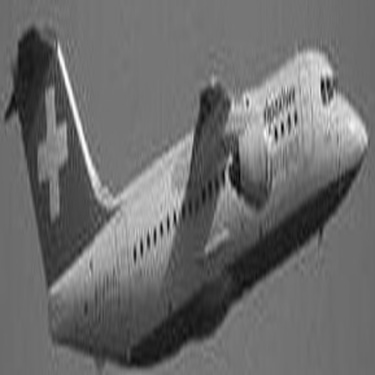airplane: (4, 2, 372, 374)
